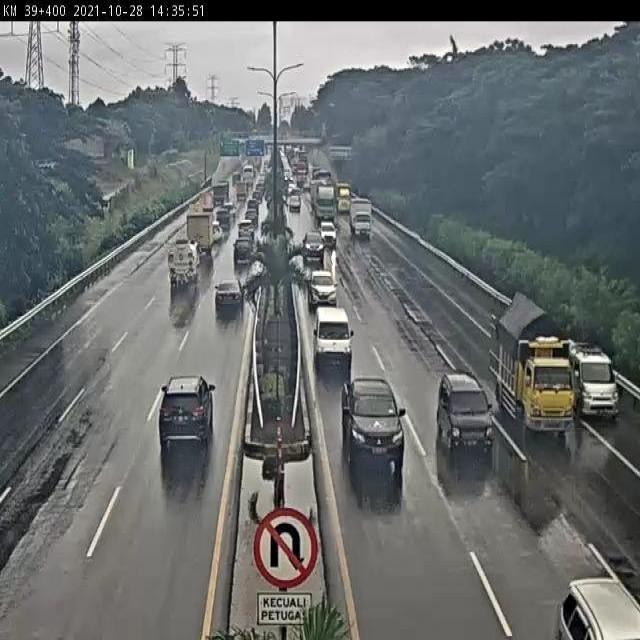big truck: (309, 182, 341, 226)
car: (338, 354, 407, 469), (431, 355, 504, 461), (549, 557, 640, 640), (146, 367, 218, 469), (572, 335, 624, 425), (309, 307, 359, 368), (208, 270, 251, 326), (214, 243, 260, 280), (300, 271, 342, 308), (301, 230, 326, 266), (231, 227, 266, 250), (313, 209, 333, 239), (287, 193, 303, 215)
small truck: (495, 304, 587, 433), (158, 233, 202, 296), (178, 213, 214, 267), (347, 194, 373, 247), (335, 182, 352, 215)
